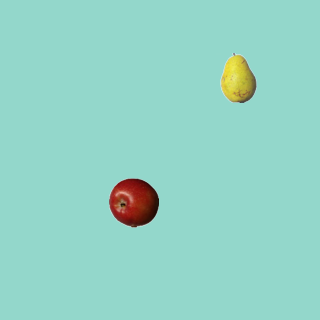Apple Braeburn: (108, 177, 158, 227)
Pear Monster: (213, 52, 263, 102)
